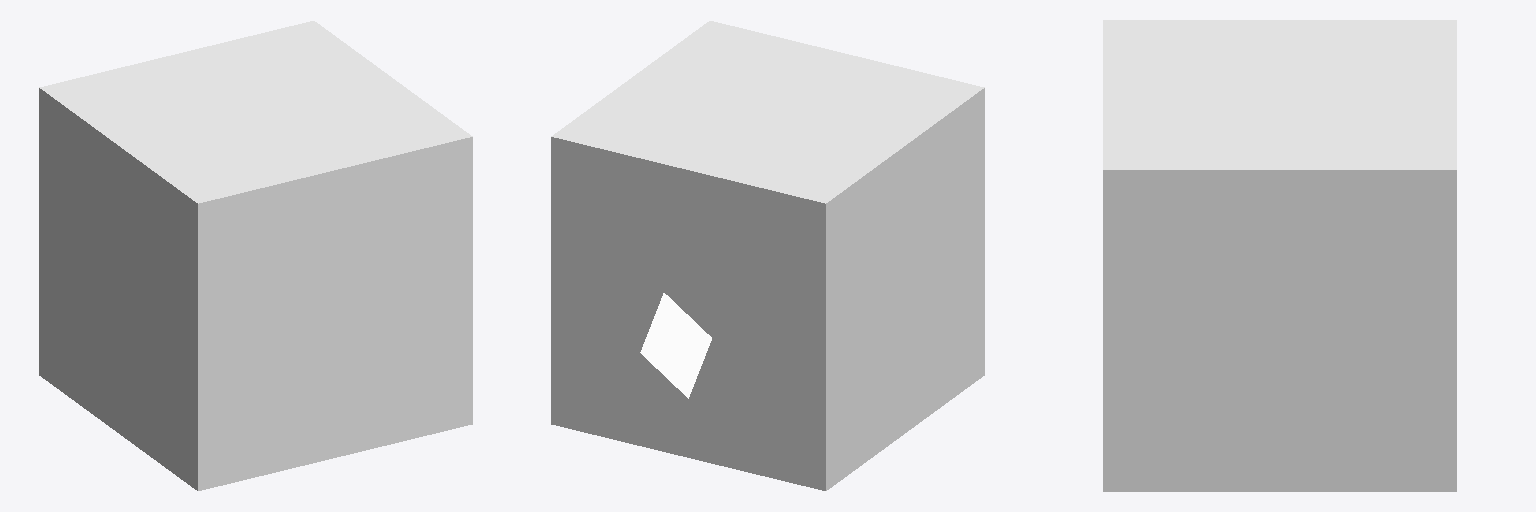
robot.urdf — Diamond_cube_bottle:
<?xml version="1.0" ?>
<robot name="Diamond_cube_bottle">
  <link name="baseLink">
    <contact>
    	<friction_anchor/>
    	   <lateral_friction value="1.0"/>
    </contact>
    <inertial>
      <origin rpy="0 0 0" xyz="0 0 0"/>
       <!-- mass controls penetration -->
       <mass value=".5"/>
       <inertia ixx="1e-4" ixy="0" ixz="0" iyy="1e-4" iyz="0" izz="1e-4"/>
    </inertial>
    <visual>
      <origin rpy="0 0 0" xyz="0 0 0"/>
      <geometry>
        <mesh filename="Diamond_cube_bottle.obj"/>
      </geometry>
       <material name="white">
        <color rgba="1 1 1 1"/>
      </material>
    </visual>
    <collision>
      <origin rpy="0 0 0" xyz="0 0 0"/>
      <geometry>
        <mesh filename="Diamond_cube_bottle.obj"/>
      </geometry>
    </collision>
  </link>
</robot>

--- Render facts (derived) ---
The picture shows the robot from 3 angles, left to right: view 1: azimuth 30°, elevation 25°; view 2: azimuth 150°, elevation 25°; view 3: azimuth 270°, elevation 25°; orthographic projection.
Robot: Diamond_cube_bottle — 1 links, 0 joints (none); root link baseLink; default pose: all joints at 0.
Links seen in each view (by area): view 1: baseLink; view 2: baseLink; view 3: baseLink.
Link boxes in pixels (bbox=[...]): baseLink: bbox=[39, 21, 472, 490]; baseLink: bbox=[551, 21, 984, 490]; baseLink: bbox=[1103, 20, 1456, 491].
Bounding box of the posed robot: 0.08 × 0.08 × 0.08 m (x, y, z).
Meshes: 1 distinct files referenced, 1 mesh visuals loaded (1 OBJ).